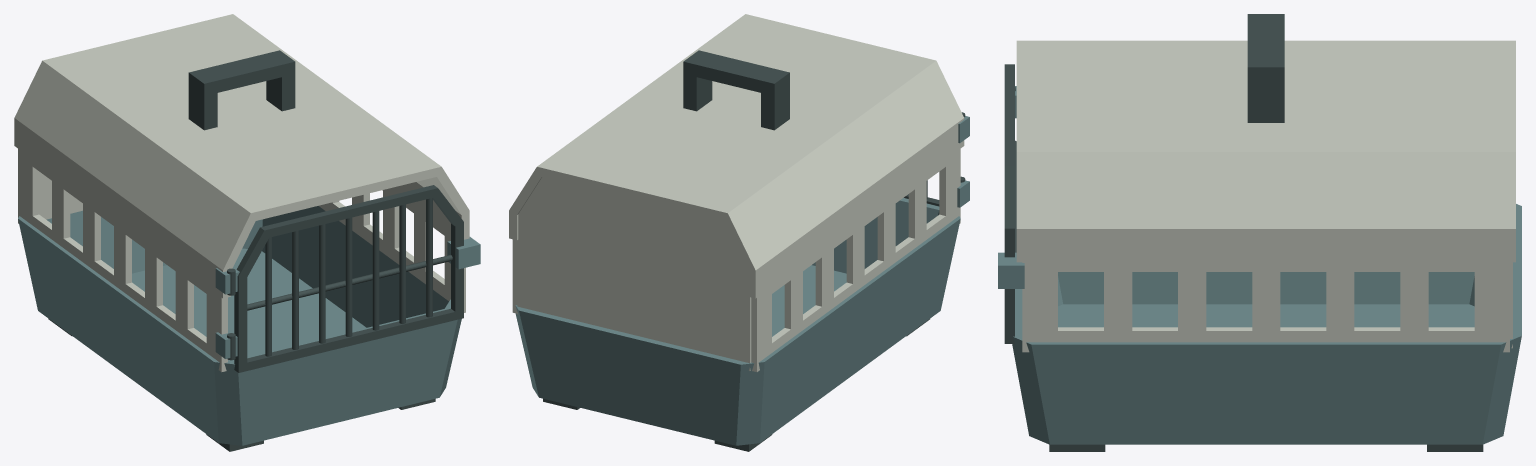
3 renders of one model, left to right at view 1: azimuth 30°, elevation 25°; view 2: azimuth 150°, elevation 25°; view 3: azimuth 270°, elevation 25°, orthographic. The views are drawn at different scales.
Visible parts, largest first — view 1: WholeThickArchedUpperVault, WholeThickFloorBasin, WholeThroughSlottedSidePanel_-1, WholeSeparateShapedFrontGrilleFrame, WholeOpenTopCarryHandle, WholeThroughSlottedSidePanel_1, WholeOffsetCrossGrilleBar, WholeVerticalFrontGrilleBar_4, WholeVerticalFrontGrilleBar_3, WholeVerticalFrontGrilleBar_2, WholeVerticalFrontGrilleBar_6, WholeVerticalFrontGrilleBar_5 (+4 smaller); view 2: WholeThickArchedUpperVault, WholeThickFloorBasin, WholeClosedShapedRearEnd, WholeThroughSlottedSidePanel_-1, WholeOpenTopCarryHandle; view 3: WholeThickArchedUpperVault, WholeThickFloorBasin, WholeThroughSlottedSidePanel_1, WholeOpenTopCarryHandle, WholeSeparateShapedFrontGrilleFrame, WholeClosedLatchAppearance.
Part boxes in pixels (<box>): WholeThickArchedUpperVault: <box>14,14,469,298</box>; WholeThickFloorBasin: <box>18,206,461,445</box>; WholeThroughSlottedSidePanel_-1: <box>18,149,227,372</box>; WholeSeparateShapedFrontGrilleFrame: <box>234,185,463,372</box>; WholeOpenTopCarryHandle: <box>188,50,295,130</box>; WholeThroughSlottedSidePanel_1: <box>318,188,465,312</box>; WholeOffsetCrossGrilleBar: <box>247,255,452,310</box>; WholeVerticalFrontGrilleBar_4: <box>372,211,379,330</box>; WholeVerticalFrontGrilleBar_3: <box>345,217,352,336</box>; WholeVerticalFrontGrilleBar_2: <box>319,224,325,343</box>; WholeVerticalFrontGrilleBar_6: <box>426,198,432,317</box>; WholeVerticalFrontGrilleBar_5: <box>399,204,405,323</box>; WholeThickArchedUpperVault: <box>509,14,964,298</box>; WholeThickFloorBasin: <box>515,198,960,445</box>; WholeClosedShapedRearEnd: <box>517,177,751,370</box>; WholeThroughSlottedSidePanel_-1: <box>751,149,960,371</box>; WholeOpenTopCarryHandle: <box>683,50,789,130</box>; WholeThickArchedUpperVault: <box>1016,40,1515,262</box>; WholeThickFloorBasin: <box>1012,204,1521,444</box>; WholeThroughSlottedSidePanel_1: <box>1022,262,1509,352</box>; WholeOpenTopCarryHandle: <box>1247,14,1284,122</box>; WholeSeparateShapedFrontGrilleFrame: <box>1004,64,1014,343</box>; WholeClosedLatchAppearance: <box>998,252,1024,288</box>.
Bounding box in the file's own units: 0.471 × 0.523 × 0.707.
